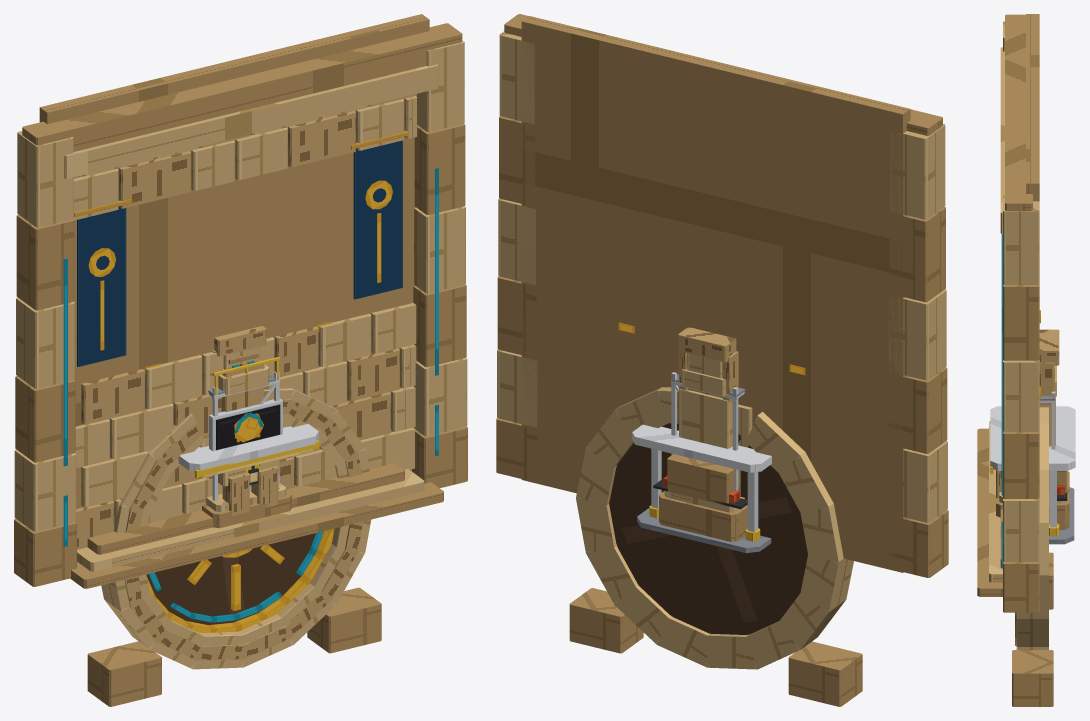
Rendered from survey-props.glb.
The picture shows the model from 3 angles, left to right: view 1: azimuth 30°, elevation 25°; view 2: azimuth 150°, elevation 25°; view 3: azimuth 270°, elevation 25°; orthographic projection. The views are drawn at different scales.
Parts seen in each view (by area): view 1: Wall, Lintel, Lintel.001, Disc, Banner, Banner.001, Step, Step.001, PylonBlock.004, Step.002, PylonBlock.005, PylonBlock.003 (+64 smaller); view 2: Wall, Disc, PylonBlock.004, PylonBlock.005, PylonBlock.002, PylonBlock.003, DoorFoot, PylonBlock, DoorFoot.001, PylonBlock.001, PylonBlock.010, PylonBlock.011 (+27 smaller); view 3: Lintel, PylonBlock.011, PylonBlock.010, PylonBlock.009, Wall, PylonBlock.008, DoorFoot.001, PylonBlock.007, Step, Roof, PylonBlock.006, Step.001 (+16 smaller).
Boxes of the visible parts, x1,y1,x2,y2 form: Wall: [39, 14, 429, 562]; Lintel: [22, 23, 462, 151]; Lintel.001: [64, 64, 438, 178]; Disc: [146, 533, 315, 624]; Banner: [77, 206, 126, 366]; Banner.001: [353, 140, 402, 299]; Step: [70, 482, 443, 588]; Step.001: [77, 469, 424, 571]; PylonBlock.004: [16, 214, 74, 310]; Step.002: [87, 463, 404, 554]; PylonBlock.005: [17, 131, 73, 227]; PylonBlock.003: [16, 297, 74, 388]; Wall: [521, 16, 910, 572]; Disc: [609, 423, 807, 634]; PylonBlock.004: [889, 206, 945, 302]; PylonBlock.005: [890, 124, 945, 219]; PylonBlock.002: [888, 367, 947, 453]; PylonBlock.003: [888, 289, 946, 380]; DoorFoot: [788, 641, 862, 706]; PylonBlock: [887, 510, 948, 577]; DoorFoot.001: [569, 588, 643, 653]; PylonBlock.001: [902, 441, 947, 522]; PylonBlock.010: [499, 116, 535, 206]; PylonBlock.011: [499, 31, 534, 124]; Lintel: [1005, 14, 1032, 210]; PylonBlock.011: [1003, 195, 1039, 284]; PylonBlock.010: [1003, 284, 1039, 360]; PylonBlock.009: [1003, 360, 1039, 431]; Wall: [1026, 14, 1039, 201]; PylonBlock.008: [1003, 431, 1039, 498]; DoorFoot.001: [1012, 650, 1053, 706]; PylonBlock.007: [1003, 498, 1039, 561]; Step: [977, 428, 1002, 596]; Roof: [990, 406, 1075, 470]; PylonBlock.006: [1003, 561, 1039, 612]; Step.001: [989, 427, 1002, 582].
Bounding box in the file's own units: 19.8 × 26.2 × 4.25.
2 materials, 2 textured.
